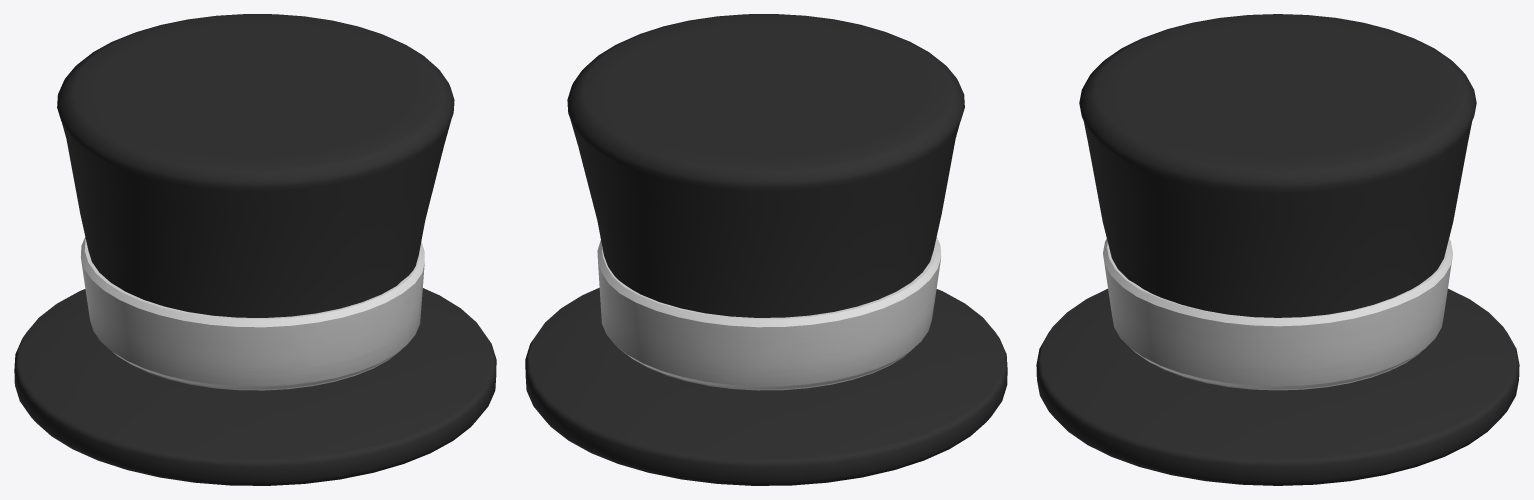
Rendered from Magic_Hat.fbx.
The picture shows the model from 3 angles, left to right: view 1: azimuth 30°, elevation 25°; view 2: azimuth 150°, elevation 25°; view 3: azimuth 270°, elevation 25°; orthographic projection.
Parts seen in each view (by area): view 1: Magic_Hat; view 2: Magic_Hat; view 3: Magic_Hat.
Part boxes in pixels (bbox=[...]): Magic_Hat: bbox=[14, 14, 496, 485]; Magic_Hat: bbox=[525, 14, 1007, 485]; Magic_Hat: bbox=[1036, 14, 1519, 485].
Size of the model in its own units: 17.42 by 11.92 by 17.43.
Materials: 2 (2 with a texture image).
